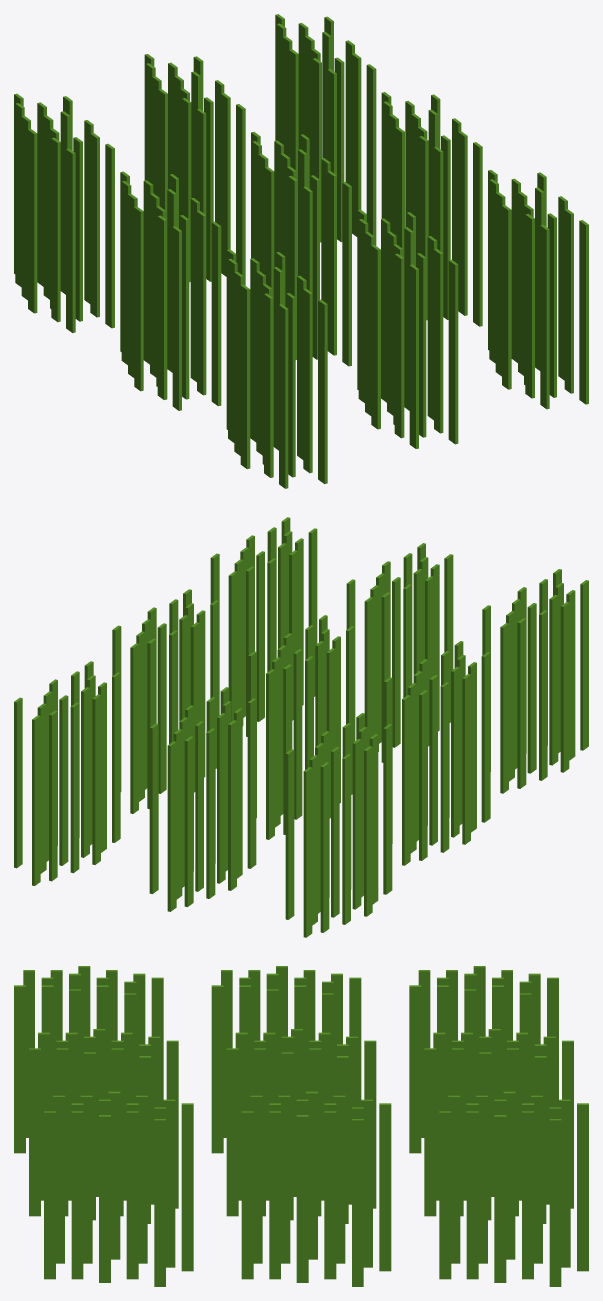
File: Grass.fbx
The picture shows the model from 3 angles, top to bottom: view 1: azimuth 30°, elevation 25°; view 2: azimuth 150°, elevation 25°; view 3: azimuth 270°, elevation 25°; orthographic projection. The views are drawn at different scales.
Parts seen in each view (by area): view 1: Cube; view 2: Cube; view 3: Cube.
Part boxes in pixels (box(x1,y1,x2,y2)): Cube: box(14, 14, 588, 488); Cube: box(14, 517, 588, 937); Cube: box(14, 966, 588, 1286).
Size of the model in its own units: 398 by 200 by 626.
